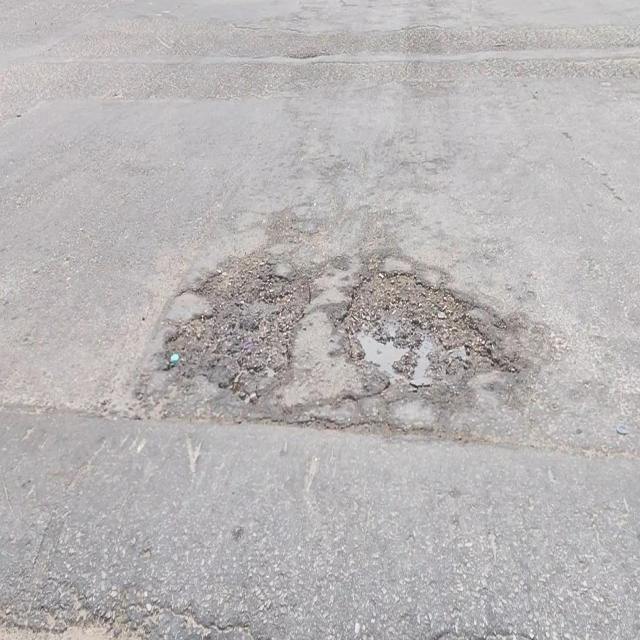Potholes: (163, 262, 311, 382), (347, 267, 490, 385)
